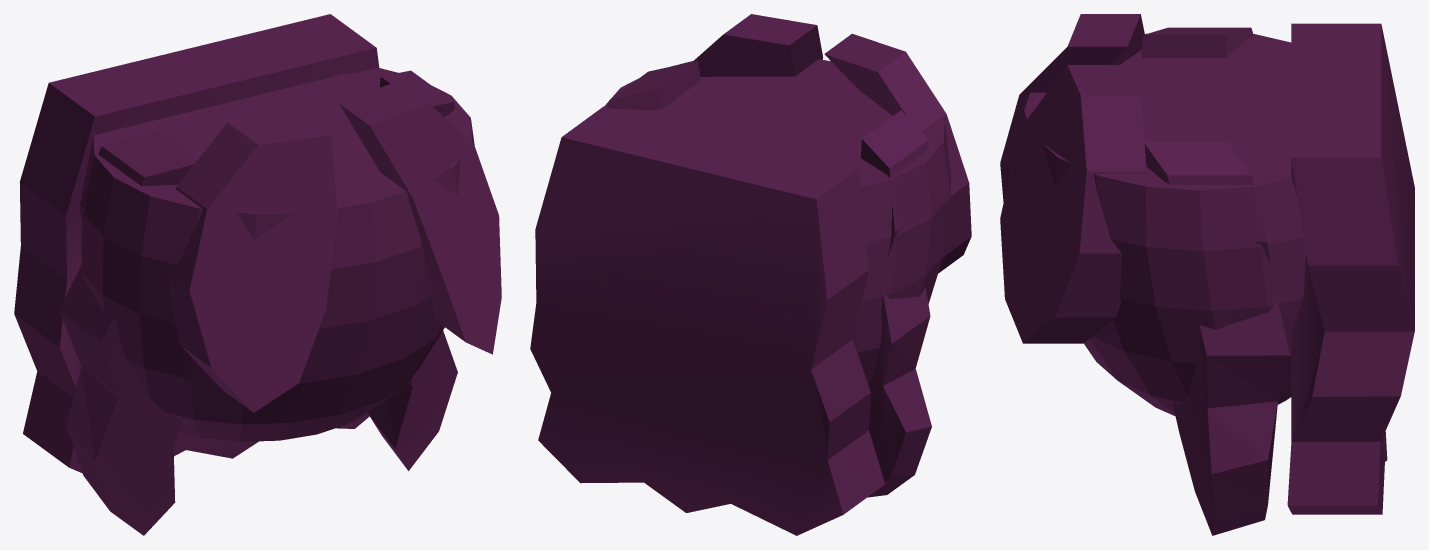
File: hair_girl_wavy_lob_01.glb
3 views of the same model, side by side, from view 1: azimuth 30°, elevation 25°; view 2: azimuth 150°, elevation 25°; view 3: azimuth 270°, elevation 25° (orthographic). The views are drawn at different scales.
Visible parts, largest first — view 1: WavyLob_Cap, WavyLob_BackWave, WavyLob_CurtainBang_L, WavyLob_CurtainBang_R, WavyLob_Wave_L, WavyLob_Wave_R; view 2: WavyLob_BackWave, WavyLob_Cap, WavyLob_Wave_L, WavyLob_CurtainBang_L, WavyLob_CurtainBang_R, WavyLob_Wave_R; view 3: WavyLob_BackWave, WavyLob_Cap, WavyLob_CurtainBang_R, WavyLob_Wave_R, WavyLob_CurtainBang_L, WavyLob_Wave_L.
Part boxes in pixels (x1,y1,x2,y2): WavyLob_Cap: [81, 67, 474, 441]; WavyLob_BackWave: [14, 14, 379, 473]; WavyLob_CurtainBang_L: [168, 112, 337, 412]; WavyLob_CurtainBang_R: [339, 81, 501, 354]; WavyLob_Wave_L: [59, 131, 196, 535]; WavyLob_Wave_R: [367, 70, 457, 470]; WavyLob_BackWave: [530, 106, 884, 535]; WavyLob_Cap: [604, 59, 951, 384]; WavyLob_Wave_L: [860, 110, 931, 497]; WavyLob_CurtainBang_L: [824, 33, 971, 273]; WavyLob_CurtainBang_R: [692, 14, 823, 76]; WavyLob_Wave_R: [607, 61, 700, 110]; WavyLob_BackWave: [1287, 23, 1414, 514]; WavyLob_Cap: [1023, 33, 1305, 416]; WavyLob_CurtainBang_R: [1000, 65, 1146, 343]; WavyLob_Wave_R: [1144, 141, 1289, 535]; WavyLob_CurtainBang_L: [1000, 14, 1144, 201]; WavyLob_Wave_L: [1141, 27, 1253, 57].
Size of the model in its own units: 0.34 by 0.3838 by 0.3448.
